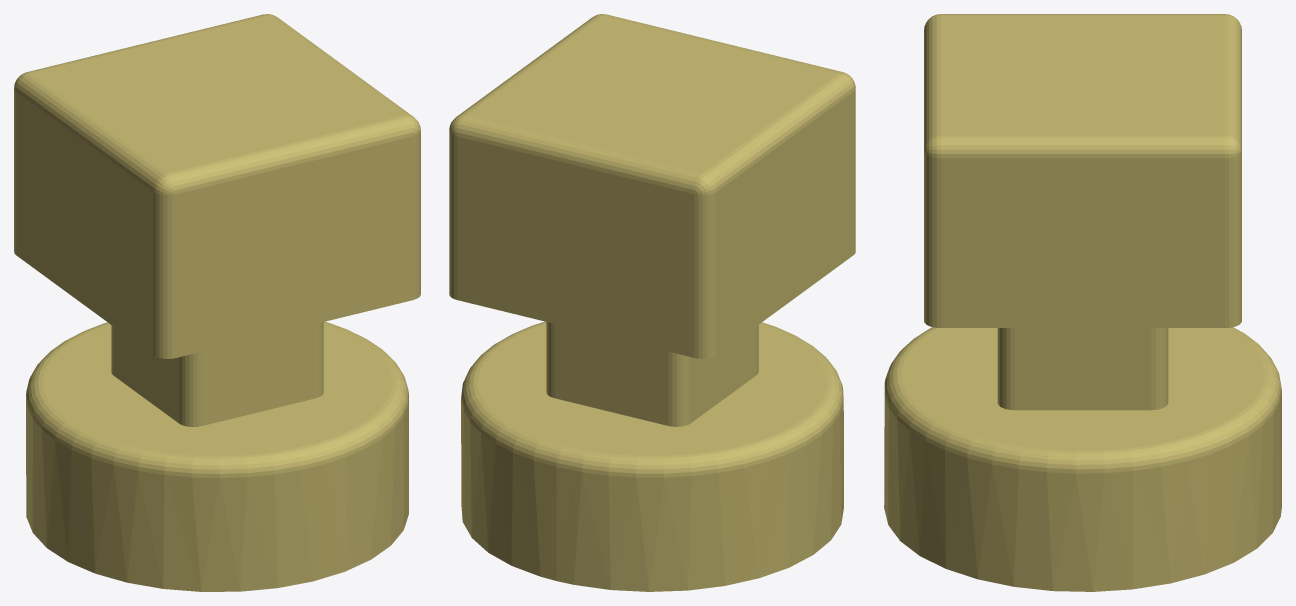
Rendered from SW_R-actuator.glb.
The picture shows the model from 3 angles, left to right: view 1: azimuth 30°, elevation 25°; view 2: azimuth 150°, elevation 25°; view 3: azimuth 270°, elevation 25°; orthographic projection. The views are drawn at different scales.
Parts seen in each view (by area): view 1: geometry_0; view 2: geometry_0; view 3: geometry_0.
Boxes of the visible parts, x1,y1,x2,y2 form: geometry_0: (14, 14, 420, 591); geometry_0: (449, 14, 855, 591); geometry_0: (884, 14, 1281, 591).
Size of the model in its own units: 3.5 by 4.2 by 3.5.
